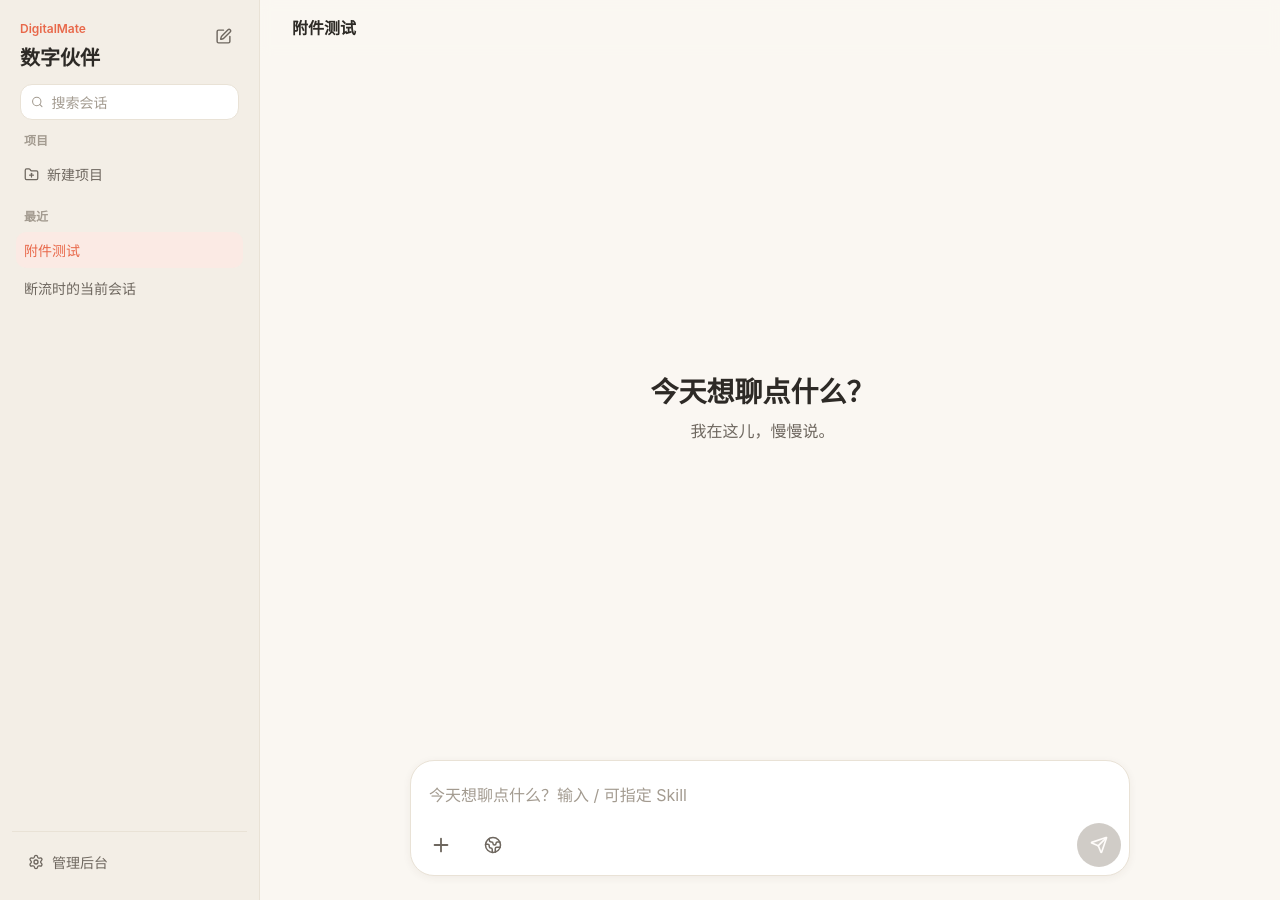
Test: ChatShell attachment submit › does not merge an accepted old turn into the current conversation after a switched-away disconnect
The image size is (1280, 900).
In the text box named "输入消息": (770, 796) [419,775,1121,817], type "会断流的旧请求"
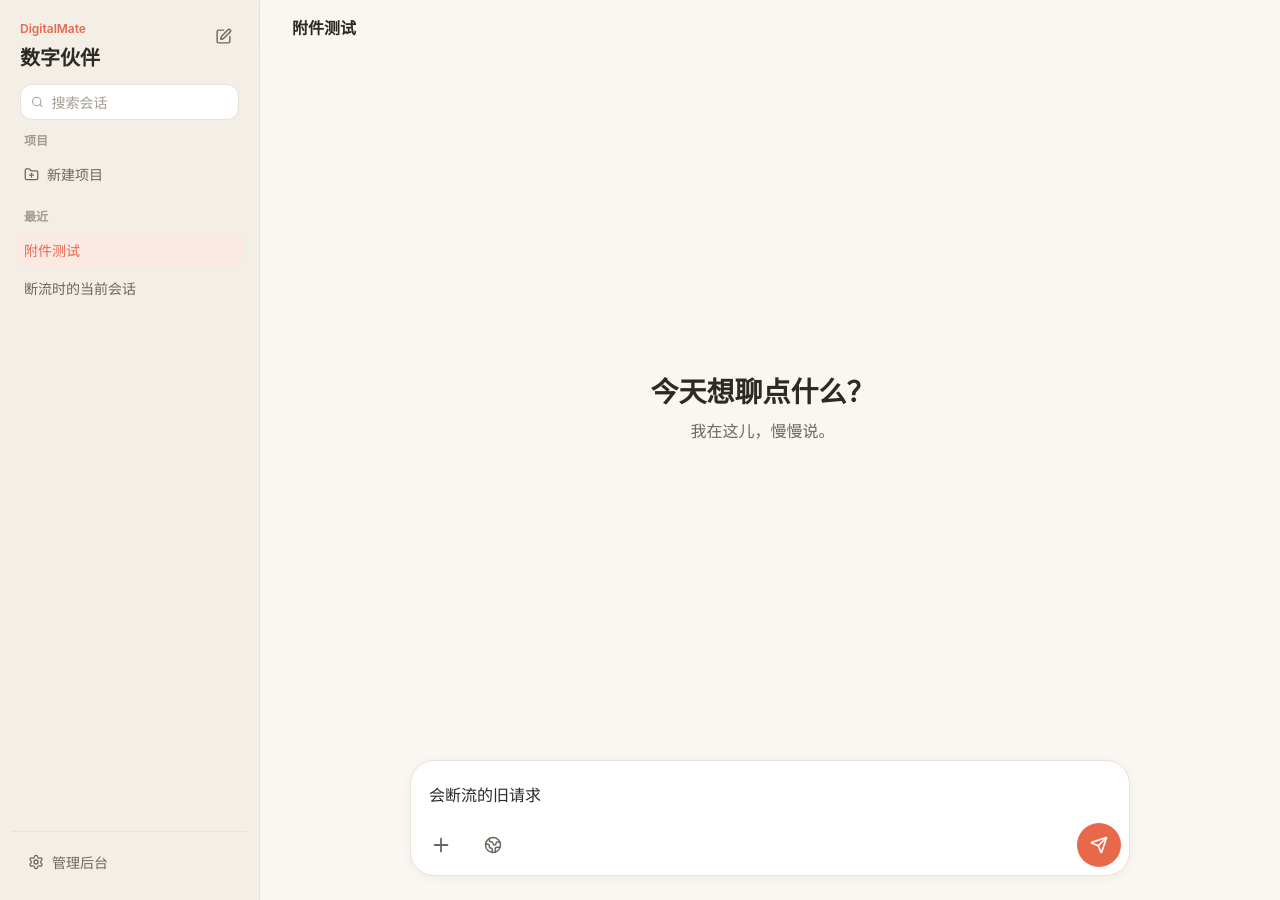
Click the button named "发送": (1099, 845) [1077,823,1121,867]
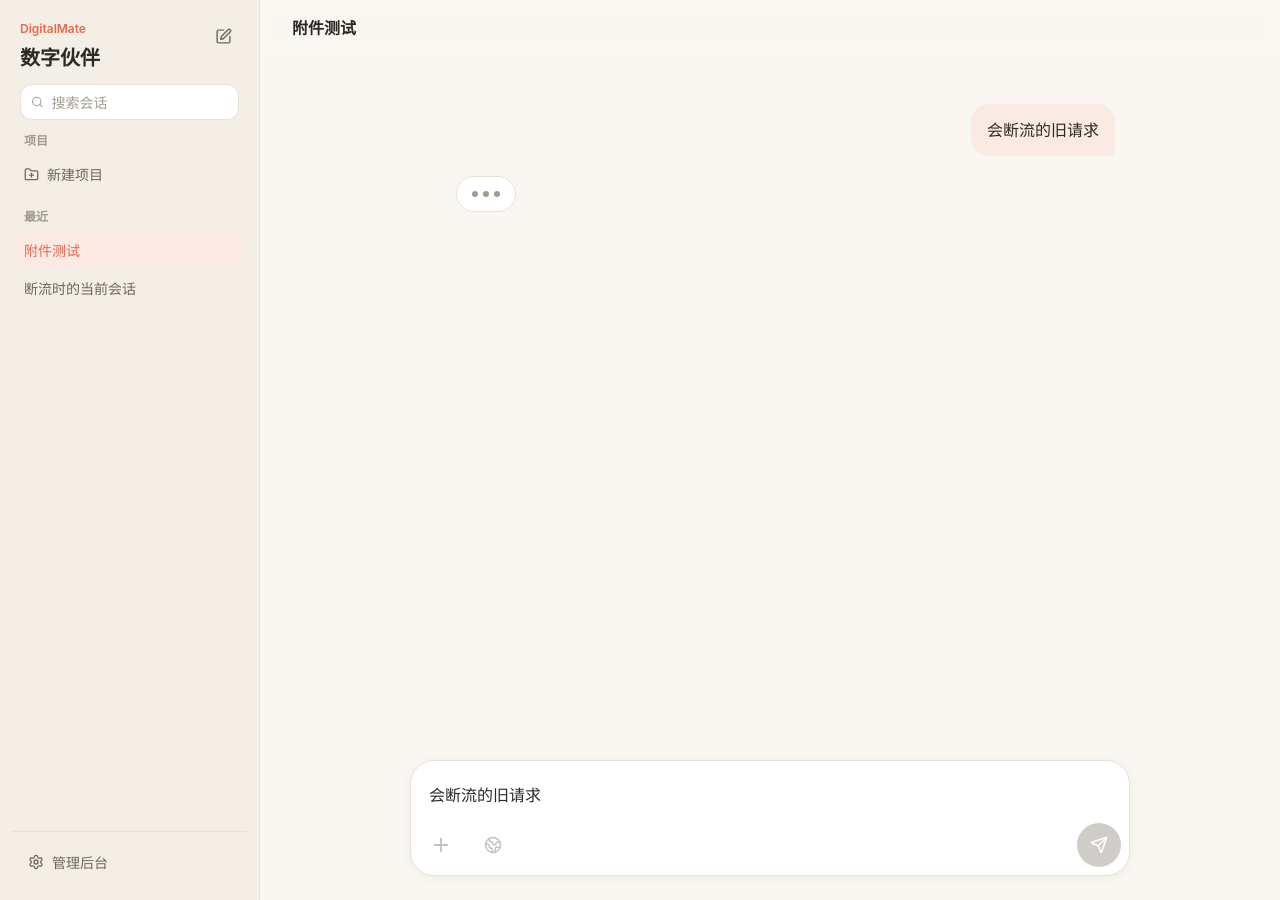
Click the button "断流时的当前会话": (112, 288) [16,270,207,306]
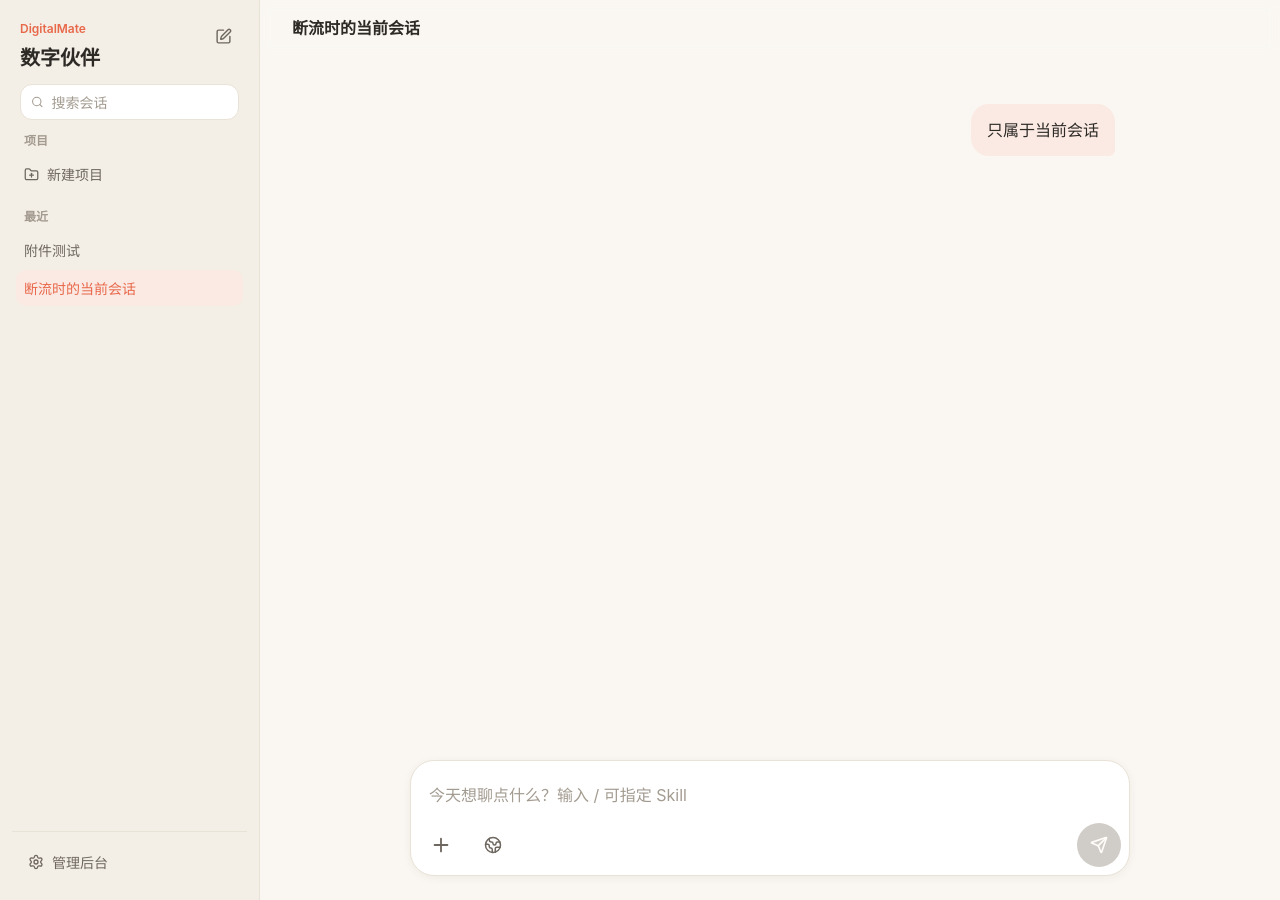
expect the text "断流时的当前会话" below "最近" is shown: met, box [24,280,136,296]
expect the text "只属于当前会话" is shown: met, box [987,116,1099,144]
